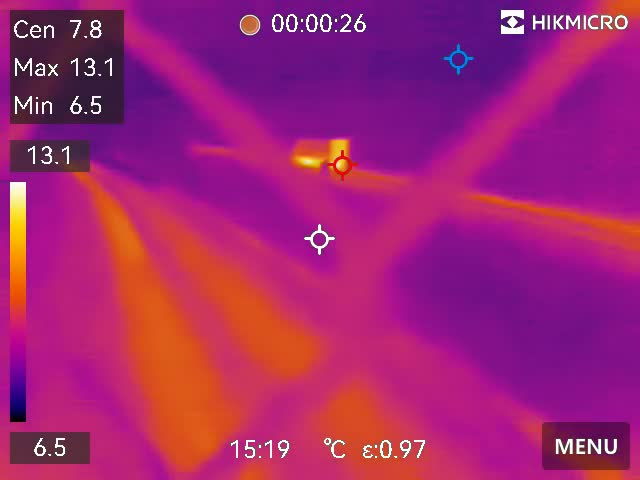heavyTruck: (290, 135, 351, 173)
